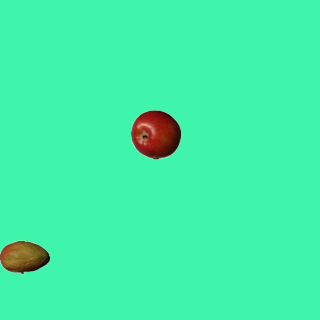Apple Braeburn: (130, 109, 180, 159)
Papaya: (0, 232, 49, 282)
